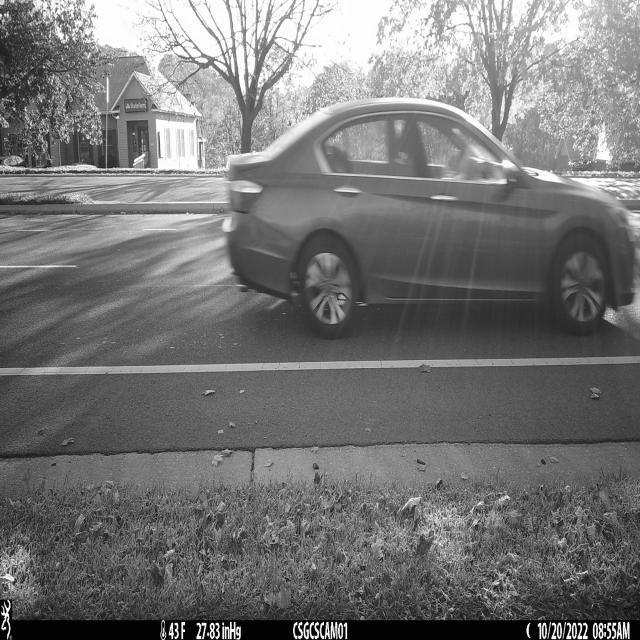Sedan: (224, 98, 637, 338)
